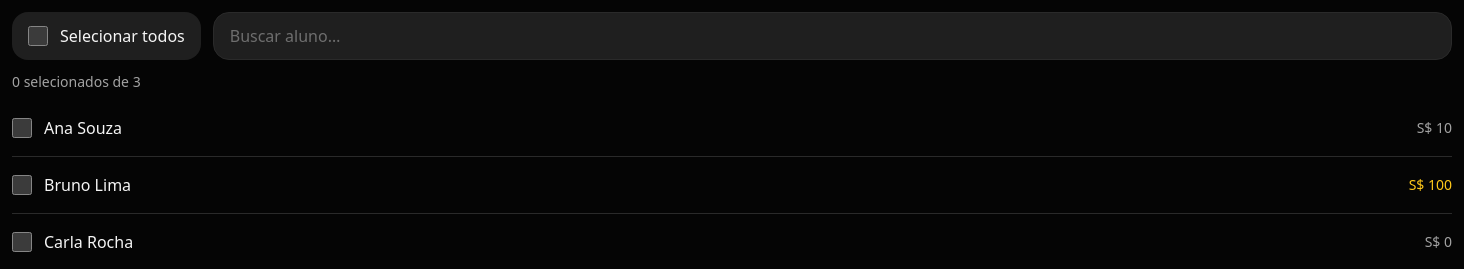
Test: <SeletorAlunos> › seleciona individualmente e mostra o saldo de cada aluno
Click the checkbox labelled "Bruno Lima S$ 100".
click(22, 185)  # box top-left (12, 175), bottom-right (32, 195)
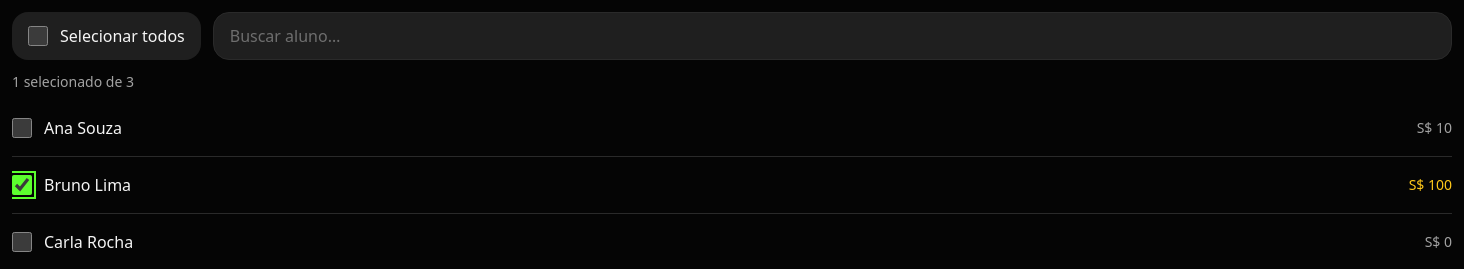
Expected: the text "S$ 100" is shown, top-left (1409, 175), bottom-right (1452, 195)
Now the text "1 selecionado de 3" is shown, box top-left (12, 72), bottom-right (134, 91)
